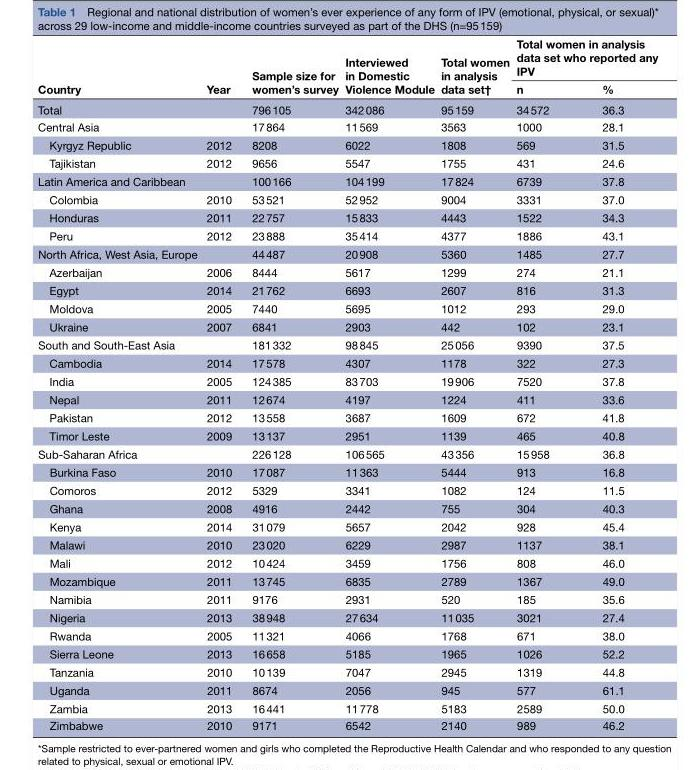table: (37, 36, 657, 731)
table column: (37, 36, 201, 731), (241, 36, 341, 731), (341, 36, 437, 731), (575, 36, 657, 731), (437, 36, 512, 731), (512, 36, 575, 731), (201, 36, 241, 731)
table column header: (37, 36, 657, 99)
table row: (37, 36, 657, 79), (37, 79, 657, 99), (37, 189, 657, 208), (37, 298, 657, 317), (37, 389, 657, 408), (37, 498, 657, 517), (37, 607, 657, 626), (37, 99, 657, 117), (37, 117, 657, 135), (37, 135, 657, 153), (37, 153, 657, 171), (37, 171, 657, 189), (37, 208, 657, 226), (37, 226, 657, 244), (37, 244, 657, 262), (37, 262, 657, 280), (37, 280, 657, 298), (37, 317, 657, 335), (37, 335, 657, 353), (37, 353, 657, 371), (37, 371, 657, 389), (37, 408, 657, 426), (37, 426, 657, 444), (37, 444, 657, 462), (37, 462, 657, 480), (37, 480, 657, 498), (37, 517, 657, 535), (37, 535, 657, 553), (37, 553, 657, 571), (37, 571, 657, 589), (37, 589, 657, 607), (37, 626, 657, 644), (37, 644, 657, 662), (37, 662, 657, 680), (37, 680, 657, 698), (37, 698, 657, 716), (37, 716, 657, 731)
table spanning cell: (37, 36, 201, 99), (241, 36, 341, 99), (512, 36, 657, 79), (341, 36, 437, 99), (437, 36, 512, 99), (201, 36, 241, 99)
